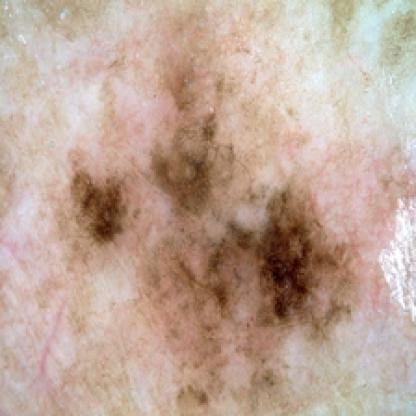malignant: (71, 89, 373, 342)
